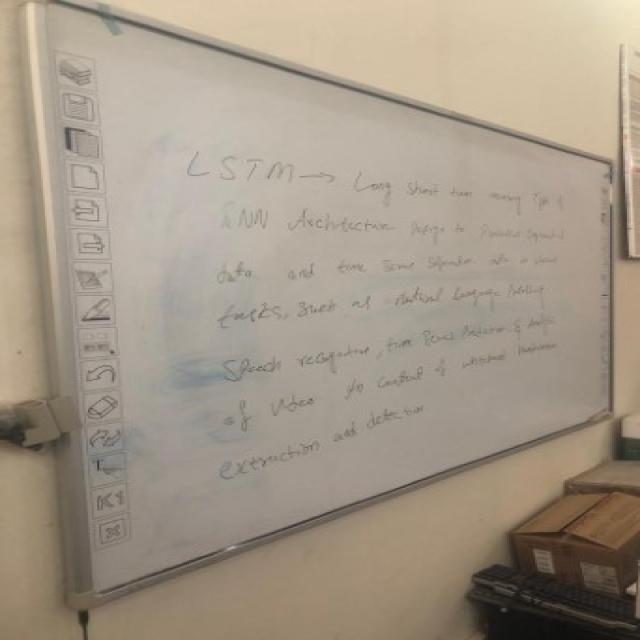White-board: (32, 3, 616, 609)
